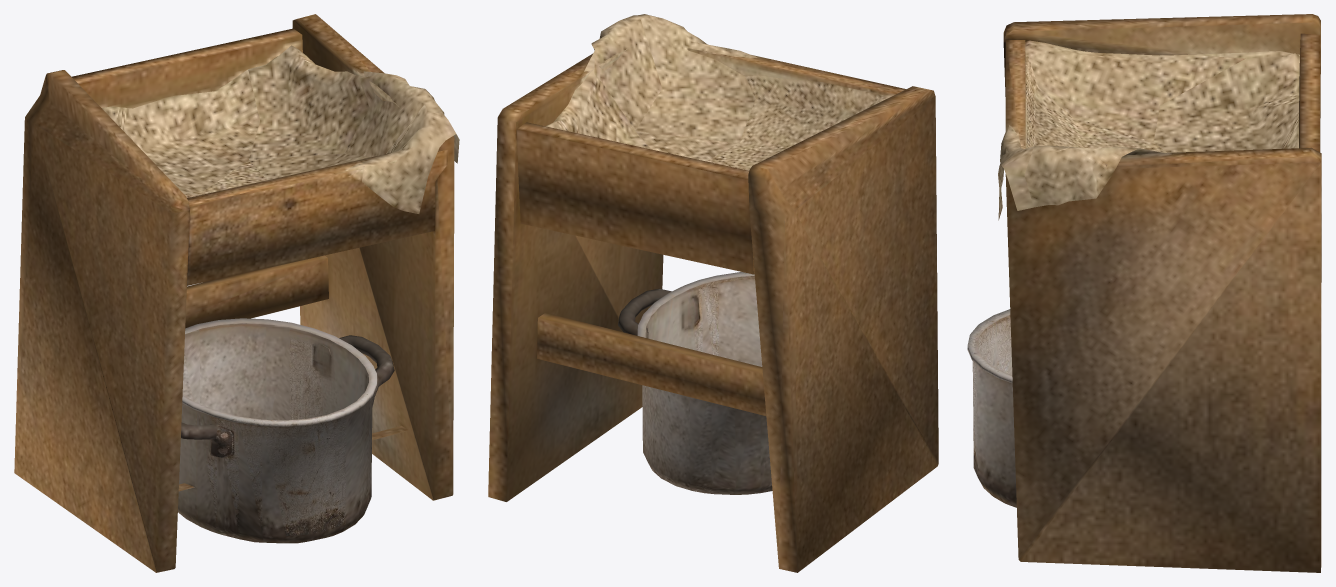
Rendered from LyeLeacher.fbx.
3 views of the same model, side by side, from view 1: azimuth 30°, elevation 25°; view 2: azimuth 150°, elevation 25°; view 3: azimuth 270°, elevation 25° (orthographic). The views are drawn at different scales.
Visible parts, largest first — view 1: tripo_node_c78fcf2e; view 2: tripo_node_c78fcf2e; view 3: tripo_node_c78fcf2e.
Boxes of the visible parts, box(x1,y1,x2,y2) form: tripo_node_c78fcf2e: box(14, 14, 459, 572); tripo_node_c78fcf2e: box(488, 14, 938, 572); tripo_node_c78fcf2e: box(967, 14, 1321, 572).
Size of the model in its own units: 0.8149 by 0.9995 by 0.7642.
